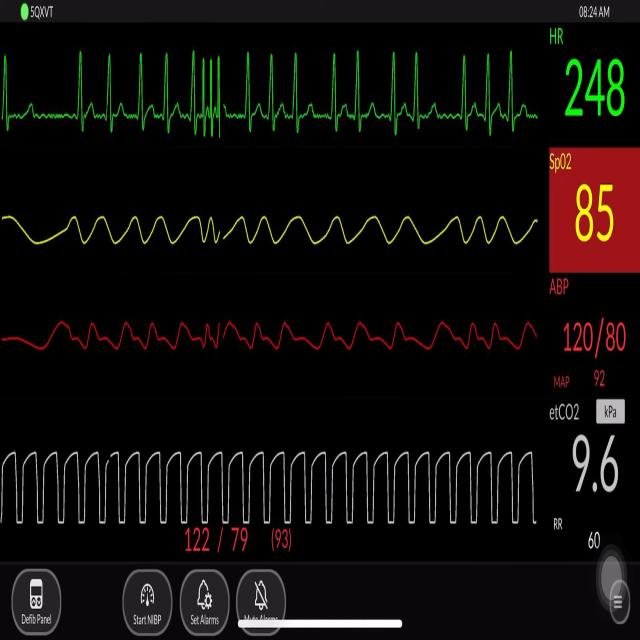danger: (185, 32, 230, 152)
